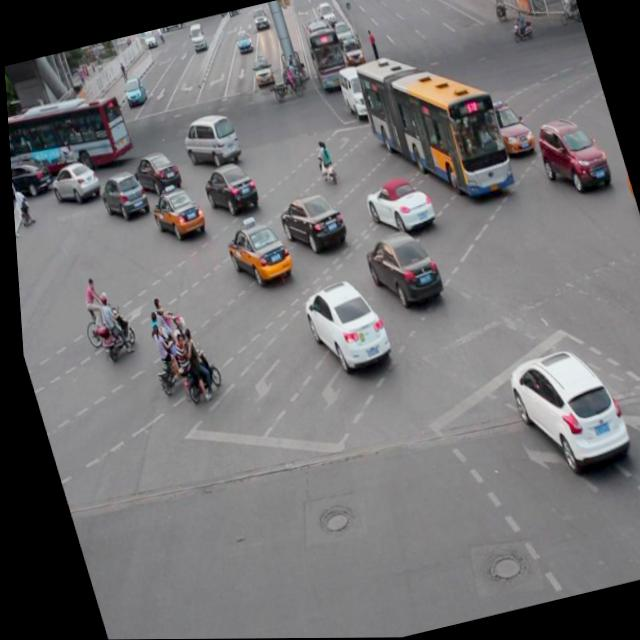car: (496, 339, 627, 478), (292, 272, 389, 376), (356, 225, 442, 312), (528, 110, 609, 198), (271, 187, 348, 259), (218, 215, 291, 289), (357, 171, 435, 239), (143, 180, 205, 244), (194, 158, 259, 219), (481, 95, 534, 160), (93, 167, 148, 222), (125, 147, 181, 198), (45, 156, 100, 205)
truck: (174, 110, 241, 169)
van: (349, 37, 513, 214), (5, 88, 134, 182)
